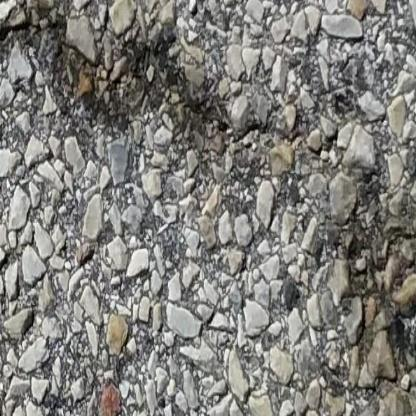Cracks: (0, 0, 308, 166), (336, 157, 416, 416)
